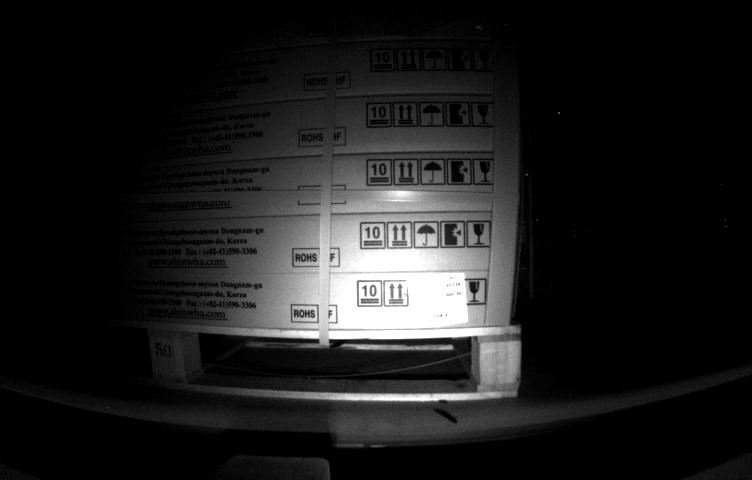True Barcode: (408, 270, 469, 324)
